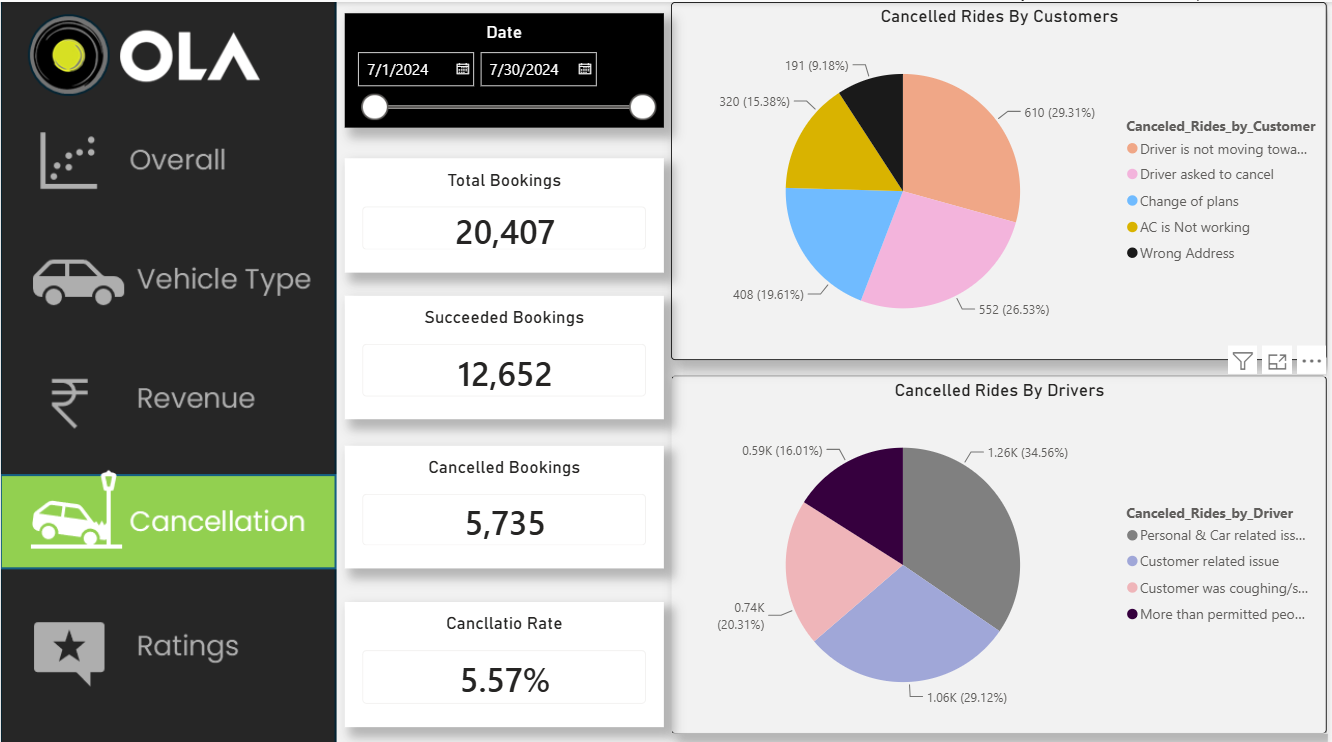

The page's visual inventory and layout, read from the dashboard file:
{"tool":"powerbi","page":{"name":"Cancellation","canvas":[1280,720],"ordinal":3},"visuals":[{"type":"actionButton","box":[0,220.8,324.5,92.2],"z":0},{"type":"actionButton","box":[0,344,324.5,92.2],"z":1000},{"type":"actionButton","box":[0,579,324.5,92.2],"z":2000},{"type":"actionButton","box":[0,104.6,324.5,92.2],"z":3000},{"type":"pieChart","title":"Cancelled Rides By Customers","fields":{"Category":["July.Canceled_Rides_by_Customer"],"Y":["CountNonNull(July.Canceled_Rides_by_Customer)"]},"box":[646.9,0,632.7,345.9],"z":3001},{"type":"pieChart","title":"Cancelled Rides By Drivers","fields":{"Category":["July.Canceled_Rides_by_Driver"],"Y":["CountNonNull(July.Canceled_Rides_by_Driver)"]},"box":[646.9,360.2,632.7,345.9],"z":3002},{"type":"slicer","title":"Date","fields":{"Values":["July.Date"]},"box":[331.6,11.2,308.2,110.2],"z":3003},{"type":"cardVisual","title":"Total Bookings","fields":{"Data":["CountNonNull(July.Booking_ID)"]},"box":[331.6,151,308.2,110.2],"z":3004},{"type":"cardVisual","title":"Succeeded Bookings","fields":{"Data":["CountNonNull(July.Booking_ID)"]},"box":[331.6,283.7,308.2,119.4],"z":3006},{"type":"cardVisual","title":"Cancelled Bookings","fields":{"Data":["CountNonNull(July.Booking_ID)"]},"box":[331.6,428.6,308.2,118.4],"z":3007},{"type":"cardVisual","title":"Cancllatio Rate","fields":{"Data":["July.CanceledPercentage"]},"box":[331.6,578.6,308.2,120.4],"z":3008}]}

Visuals, with their boxes on the page's 1280x720 design canvas (x1, y1, x2, y2). These are canvas units, not pixel positions in the 1332x742 screenshot, which may show the page scaled, cropped or inside an application window:
actionButton: region(0, 221, 324, 313)
actionButton: region(0, 344, 324, 436)
actionButton: region(0, 579, 324, 671)
actionButton: region(0, 105, 324, 197)
"Cancelled Rides By Customers" pieChart: region(647, 0, 1280, 346)
"Cancelled Rides By Drivers" pieChart: region(647, 360, 1280, 706)
"Date" slicer: region(332, 11, 640, 121)
"Total Bookings" cardVisual: region(332, 151, 640, 261)
"Succeeded Bookings" cardVisual: region(332, 284, 640, 403)
"Cancelled Bookings" cardVisual: region(332, 429, 640, 547)
"Cancllatio Rate" cardVisual: region(332, 579, 640, 699)
